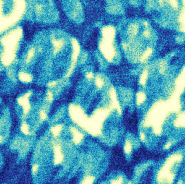hole_filled: (133, 44, 185, 155), (24, 122, 107, 183), (67, 68, 126, 149), (18, 27, 83, 88), (93, 16, 164, 65), (9, 87, 51, 137)
